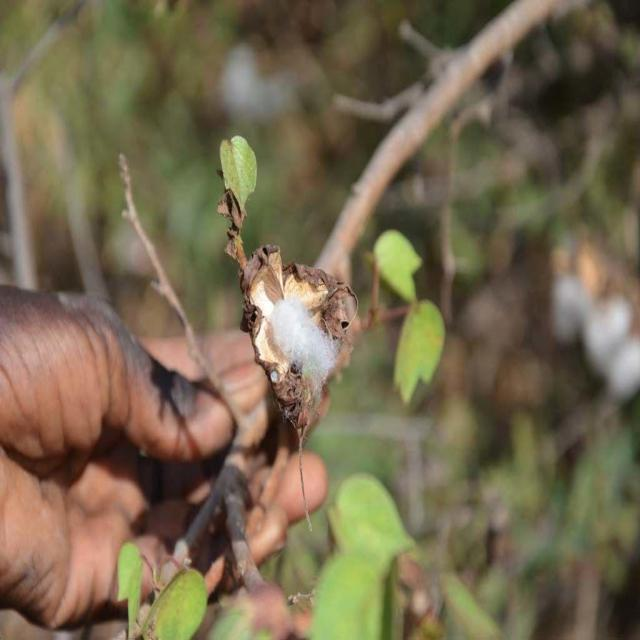Late_blight: (245, 248, 358, 434)
